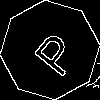P: (25, 25, 81, 79)
